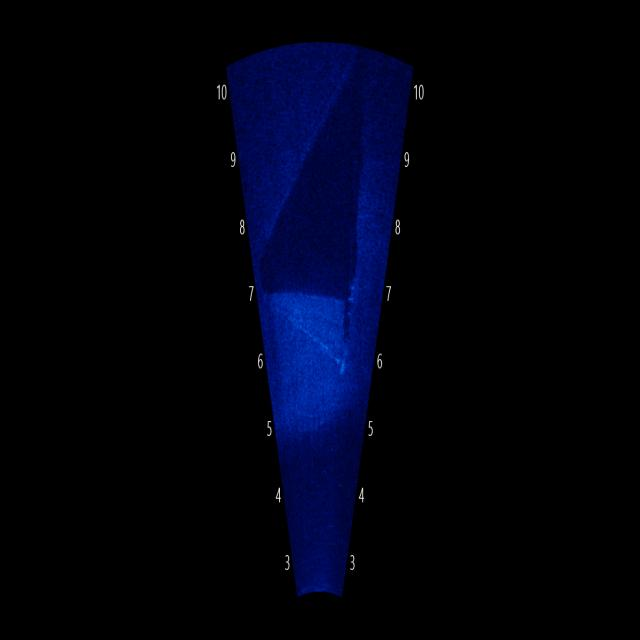triangle: (259, 270, 357, 382)
